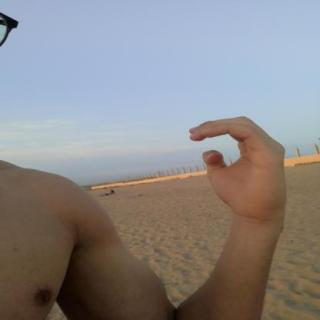JEEM: (172, 106, 305, 230)
